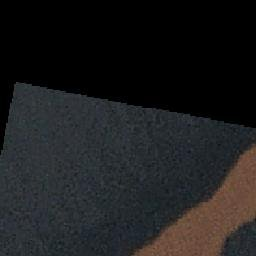debris: (132, 205, 201, 256), (201, 171, 235, 256), (235, 135, 256, 242)
